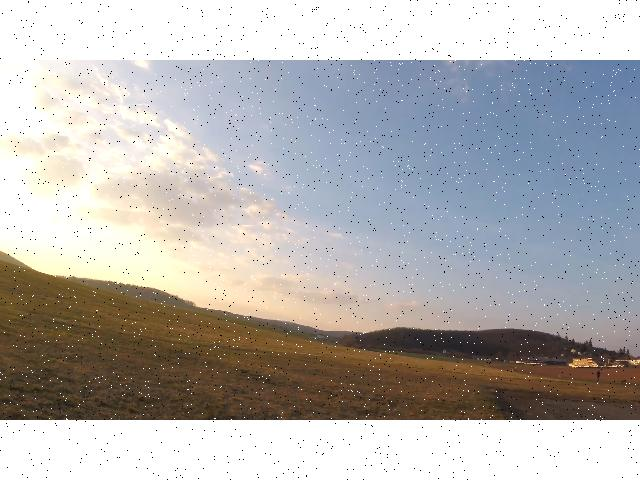Anti-Drone: (332, 255, 344, 265)
